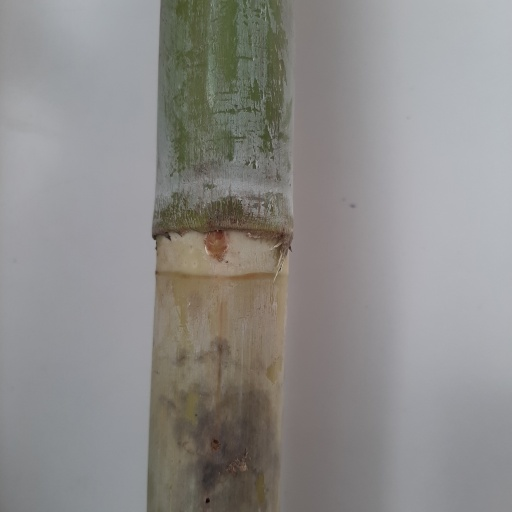Damage_Bud: (201, 229, 228, 263)
